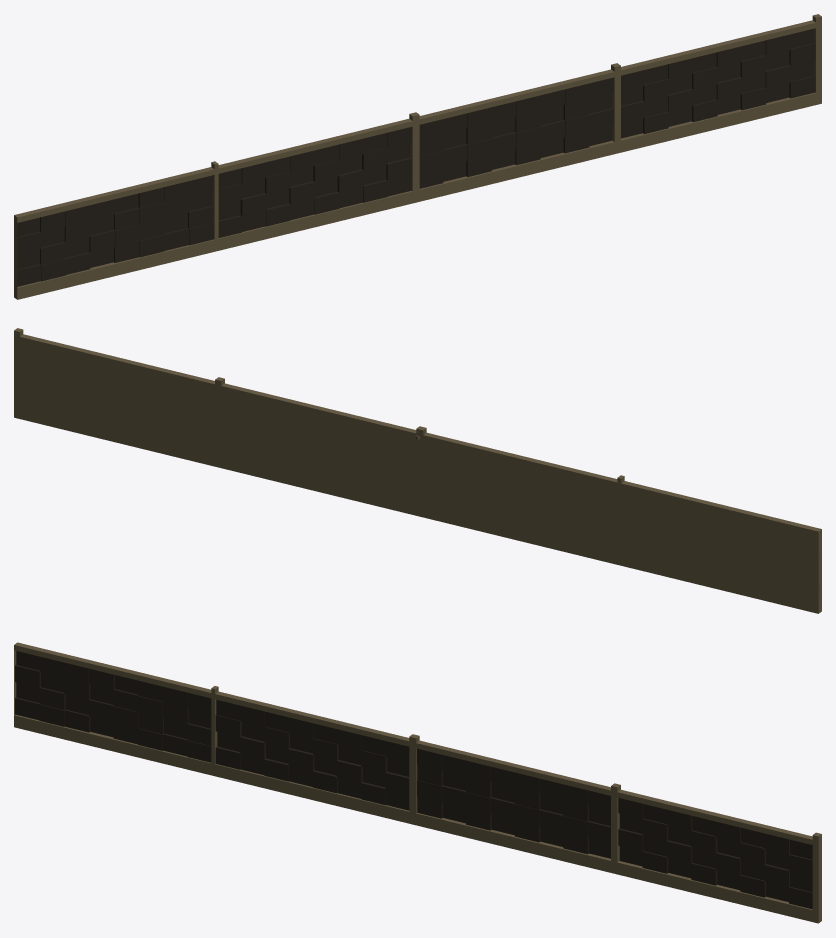
Rendered from road_barrier.glb.
3 views of the same model, one above another, from view 1: azimuth 30°, elevation 25°; view 2: azimuth 150°, elevation 25°; view 3: azimuth 330°, elevation 25° (orthographic).
Parts seen in each view (by area): view 1: Cube, segment_4, segment_3, segment_1, segment_2; view 2: Cube; view 3: Cube, segment_4, segment_3, segment_1, segment_2.
Boxes of the visible parts, left/top/right/bottom form: Cube: left=14, top=14, right=821, bottom=299; segment_4: left=15, top=175, right=213, bottom=286; segment_3: left=218, top=127, right=411, bottom=237; segment_1: left=621, top=28, right=815, bottom=138; segment_2: left=419, top=77, right=613, bottom=188; Cube: left=14, top=328, right=821, bottom=613; Cube: left=14, top=642, right=821, bottom=923; segment_4: left=15, top=651, right=211, bottom=762; segment_3: left=215, top=699, right=409, bottom=810; segment_1: left=618, top=798, right=812, bottom=909; segment_2: left=417, top=748, right=610, bottom=858.
Bounding box in the file's own units: 100 × 10.34 × 0.7521.
